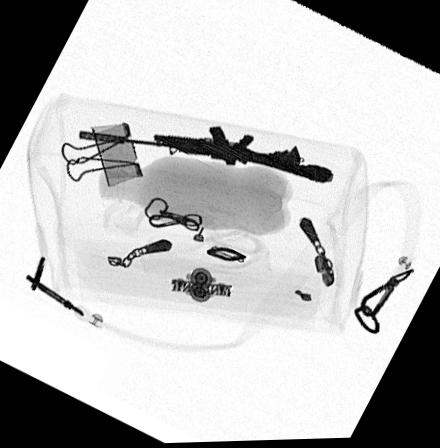Gun: (78, 127, 333, 186)
